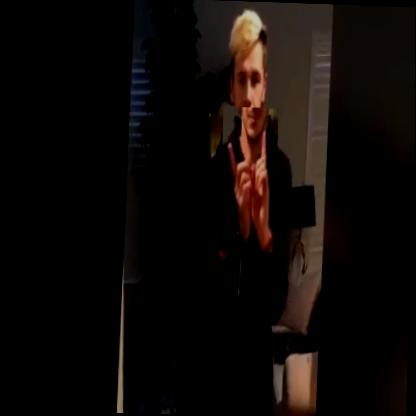NiceToMeetYou: (218, 107, 279, 252)
